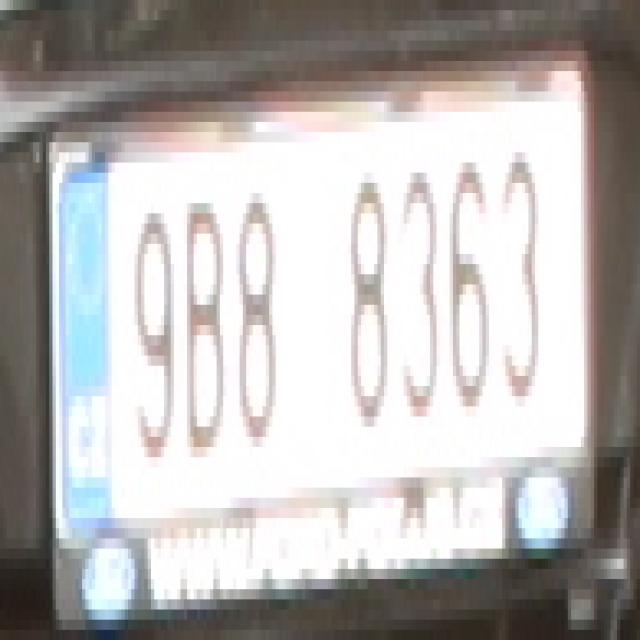3: (394, 152, 440, 416), (502, 142, 538, 386)
6: (446, 152, 489, 396)
8: (348, 162, 384, 426), (240, 193, 272, 437)
9: (135, 213, 177, 457)
B: (187, 203, 223, 447)
